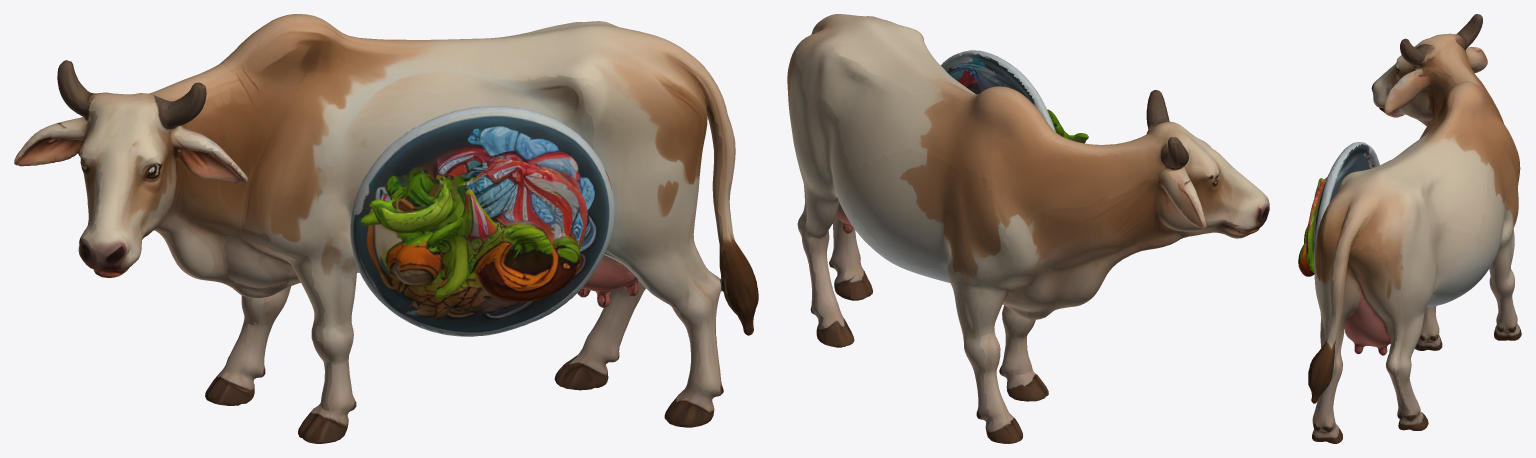
File: 02_cow_bloated.glb
3 renders of one model, left to right at view 1: azimuth 30°, elevation 25°; view 2: azimuth 150°, elevation 25°; view 3: azimuth 270°, elevation 25°, orthographic. The views are drawn at different scales.
Parts seen in each view (by area): view 1: textured_mesh.obj; view 2: textured_mesh.obj; view 3: textured_mesh.obj.
Boxes of the visible parts, x1=… form: textured_mesh.obj: x1=14, y1=14, x2=758, y2=443; textured_mesh.obj: x1=787, y1=14, x2=1269, y2=443; textured_mesh.obj: x1=1298, y1=14, x2=1521, y2=443.
Bounding box in the file's own units: 1.99 × 1.23 × 0.9487.
Materials: 1 (1 with a texture image).
